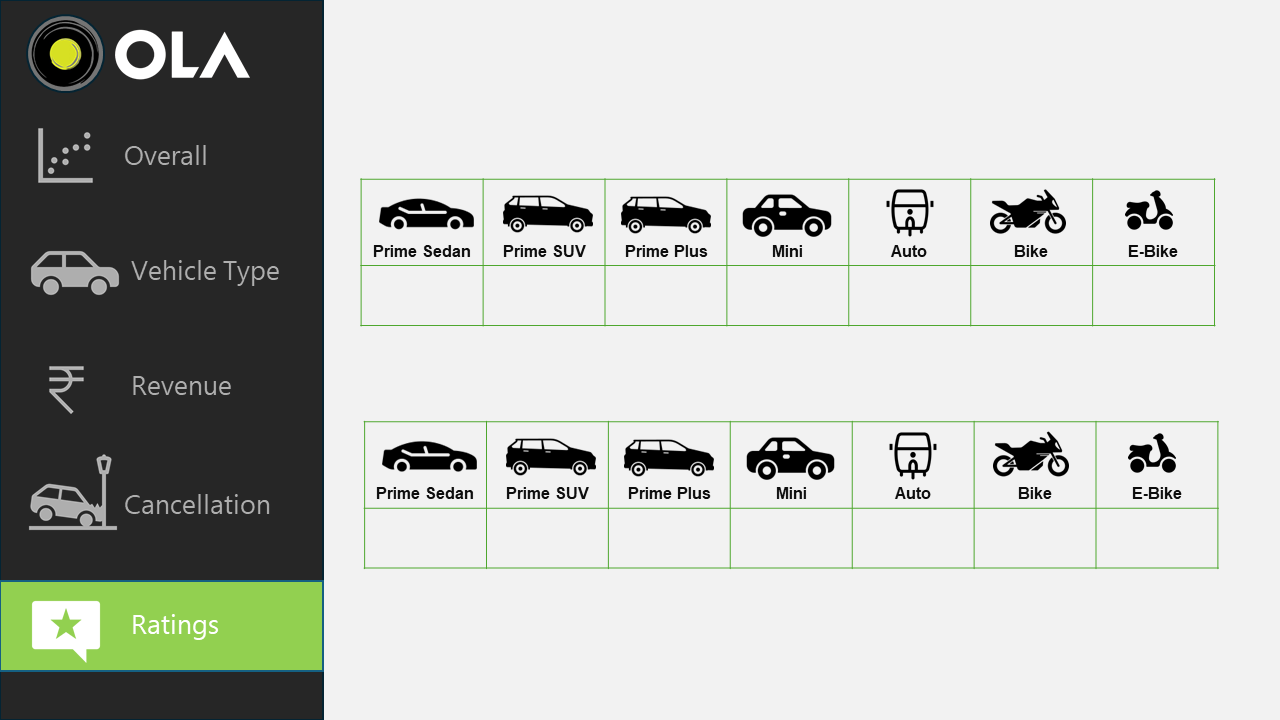

What the dashboard file says about the page in this screenshot:
{"tool":"powerbi","page":{"name":"Ratings","canvas":[1280,720],"ordinal":4},"visuals":[{"type":"actionButton","box":[0,217.2,322.1,91.7],"z":0},{"type":"actionButton","box":[1.2,107.4,322.1,91.7],"z":1000},{"type":"actionButton","box":[0,337.8,322.1,91.7],"z":2000},{"type":"actionButton","box":[0,450,322.1,91.7],"z":3000},{"type":"card","fields":{"Values":["Avg(bookings-July.Driver_Ratings)"]},"box":[360.9,263.5,120.8,57.6],"z":4000},{"type":"card","fields":{"Values":["Avg(bookings-July.Driver_Ratings)"]},"box":[481.6,263.5,120.8,57.6],"z":5000},{"type":"card","fields":{"Values":["Avg(bookings-July.Driver_Ratings)"]},"box":[602.4,263.5,120.8,57.6],"z":6000},{"type":"card","fields":{"Values":["Avg(bookings-July.Driver_Ratings)"]},"box":[723.2,263.5,120.8,57.6],"z":7000},{"type":"card","fields":{"Values":["Avg(bookings-July.Driver_Ratings)"]},"box":[853.5,263.5,120.8,57.6],"z":8000},{"type":"card","fields":{"Values":["Avg(bookings-July.Driver_Ratings)"]},"box":[974.3,263.5,120.8,57.6],"z":9000},{"type":"card","fields":{"Values":["Avg(bookings-July.Driver_Ratings)"]},"box":[1095,263.5,120.8,57.6],"z":10000},{"type":"card","fields":{"Values":["Avg(bookings-July.Customer_Rating)"]},"box":[360.9,507.7,120.8,56.3],"z":10001},{"type":"textbox","box":[360.9,123.5,166,39.8],"z":10002},{"type":"textbox","box":[362.3,373.2,207.2,39.8],"z":10003},{"type":"card","fields":{"Values":["Avg(bookings-July.Customer_Rating)"]},"box":[481.6,509.1,120.8,56.3],"z":10004},{"type":"card","fields":{"Values":["Avg(bookings-July.Customer_Rating)"]},"box":[602.4,507.7,120.8,56.3],"z":10005},{"type":"card","fields":{"Values":["Avg(bookings-July.Customer_Rating)"]},"box":[732.8,507.7,120.8,56.3],"z":10006},{"type":"card","fields":{"Values":["Avg(bookings-July.Customer_Rating)"]},"box":[853.5,507.7,120.8,56.3],"z":10007},{"type":"card","fields":{"Values":["Avg(bookings-July.Customer_Rating)"]},"box":[974.3,509.1,120.8,56.3],"z":10008},{"type":"card","fields":{"Values":["Avg(bookings-July.Customer_Rating)"]},"box":[1095,507.7,120.8,56.3],"z":10009},{"type":"slicer","title":"Date","fields":{"Values":["bookings-July.Date"]},"box":[1000.3,9.6,267.6,115.3],"z":10010}]}

Visuals, with their boxes on the page's 1280x720 design canvas (x1, y1, x2, y2). These are canvas units, not pixel positions in the 1280x720 screenshot, which may show the page scaled, cropped or inside an application window:
actionButton: box(0, 217, 322, 309)
actionButton: box(1, 107, 323, 199)
actionButton: box(0, 338, 322, 430)
actionButton: box(0, 450, 322, 542)
card - Avg(bookings-July.Driver_Ratings): box(361, 264, 482, 321)
card - Avg(bookings-July.Driver_Ratings): box(482, 264, 602, 321)
card - Avg(bookings-July.Driver_Ratings): box(602, 264, 723, 321)
card - Avg(bookings-July.Driver_Ratings): box(723, 264, 844, 321)
card - Avg(bookings-July.Driver_Ratings): box(854, 264, 974, 321)
card - Avg(bookings-July.Driver_Ratings): box(974, 264, 1095, 321)
card - Avg(bookings-July.Driver_Ratings): box(1095, 264, 1216, 321)
card - Avg(bookings-July.Customer_Rating): box(361, 508, 482, 564)
textbox: box(361, 124, 527, 163)
textbox: box(362, 373, 570, 413)
card - Avg(bookings-July.Customer_Rating): box(482, 509, 602, 565)
card - Avg(bookings-July.Customer_Rating): box(602, 508, 723, 564)
card - Avg(bookings-July.Customer_Rating): box(733, 508, 854, 564)
card - Avg(bookings-July.Customer_Rating): box(854, 508, 974, 564)
card - Avg(bookings-July.Customer_Rating): box(974, 509, 1095, 565)
card - Avg(bookings-July.Customer_Rating): box(1095, 508, 1216, 564)
"Date" slicer: box(1000, 10, 1268, 125)
